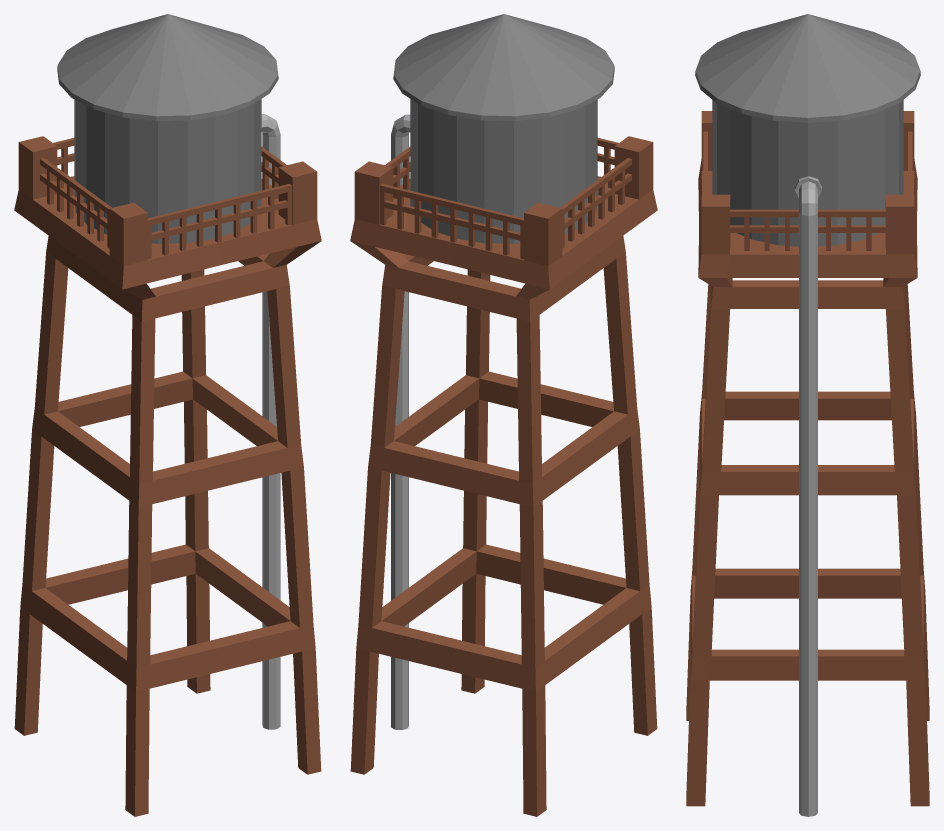
The model's file is watertower.glb.
3 renders of one model, left to right at view 1: azimuth 30°, elevation 25°; view 2: azimuth 150°, elevation 25°; view 3: azimuth 270°, elevation 25°, orthographic.
Visible parts, largest first — view 1: WaterTower; view 2: WaterTower; view 3: WaterTower.
Part boxes in pixels (x1,y1,x2,y2): WaterTower: [14, 14, 321, 816]; WaterTower: [350, 14, 657, 816]; WaterTower: [686, 14, 929, 816].
Size of the model in its own units: 2.53 by 8.43 by 2.49.
